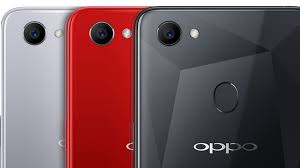oppo: (131, 7, 298, 168)
